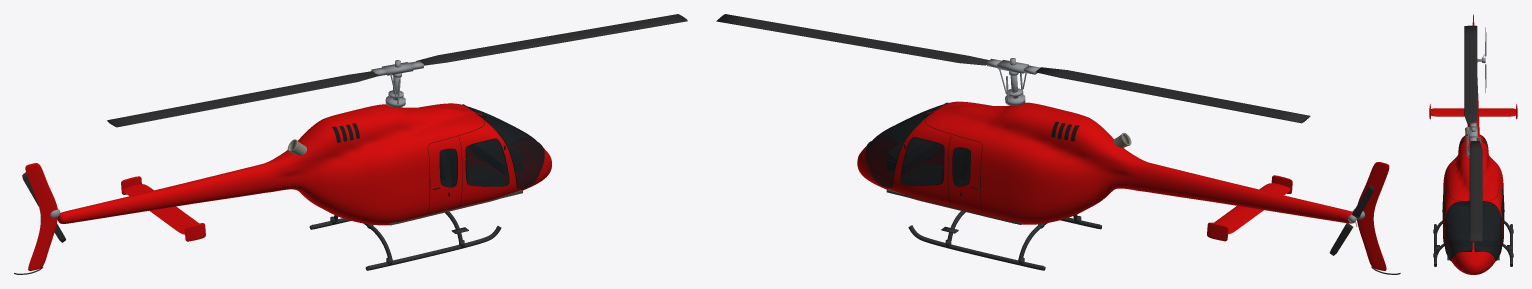
Rendered from bell505.glb.
3 views of the same model, side by side, from view 1: azimuth 30°, elevation 25°; view 2: azimuth 150°, elevation 25°; view 3: azimuth 270°, elevation 25° (orthographic). The views are drawn at different scales.
Visible parts, largest first — view 1: body, mrblade, glass, skids, frames, mrhub, interior; view 2: body, mrblade, glass, skids, frames, mrhub, trblade, interior; view 3: body, mrblade, glass, frames, skids, mrhub, interior, trblade.
Part boxes in pixels (left/top/right/bottom): body: left=25, top=103, right=551, bottom=270; mrblade: left=107, top=14, right=687, bottom=127; glass: left=440, top=106, right=543, bottom=187; skids: left=14, top=211, right=501, bottom=274; frames: left=322, top=103, right=544, bottom=213; mrhub: left=371, top=60, right=423, bottom=107; interior: left=388, top=140, right=522, bottom=225; body: left=857, top=101, right=1389, bottom=270; mrblade: left=716, top=14, right=1310, bottom=123; glass: left=865, top=104, right=969, bottom=186; skids: left=908, top=211, right=1400, bottom=274; frames: left=864, top=101, right=1089, bottom=213; mrhub: left=986, top=58, right=1039, bottom=105; trblade: left=1329, top=185, right=1374, bottom=255; interior: left=886, top=138, right=1022, bottom=224; body: left=1429, top=14, right=1517, bottom=274; mrblade: left=1464, top=25, right=1482, bottom=242; glass: left=1443, top=191, right=1503, bottom=259; frames: left=1442, top=135, right=1504, bottom=260; skids: left=1433, top=220, right=1513, bottom=266; mrhub: left=1466, top=122, right=1480, bottom=157; interior: left=1447, top=206, right=1499, bottom=260; trblade: left=1485, top=27, right=1486, bottom=92.
Bounding box in the file's own units: 13.13 × 3.47 × 2.2.
